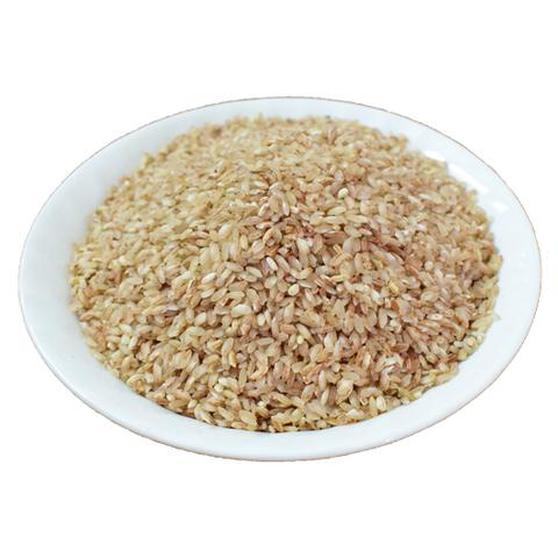rice: (66, 117, 514, 437)
